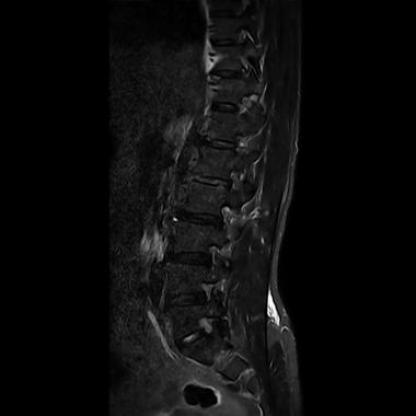Annular Tearrotation: (161, 290, 212, 314)
Disc Bulgerotation: (161, 290, 212, 314), (166, 247, 216, 270), (175, 207, 226, 228)
Disc Protrusionrotation: (189, 172, 231, 190)
